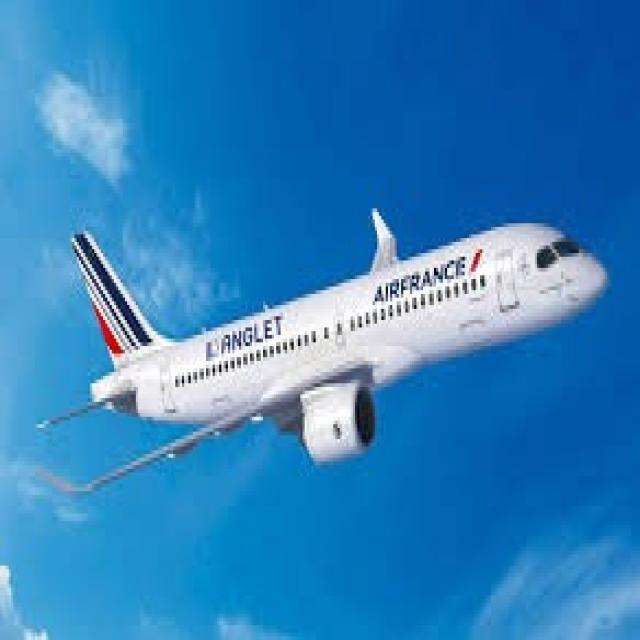aircraft: (22, 146, 634, 524)
